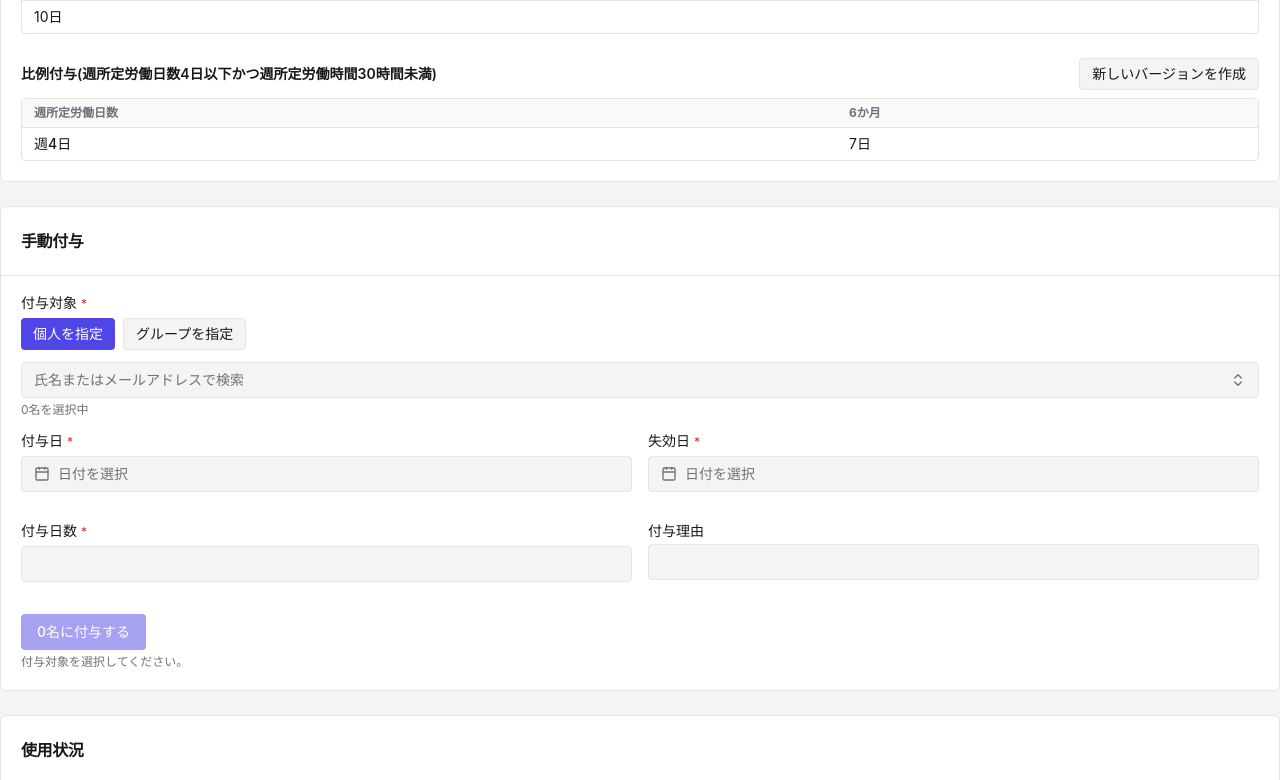
Test: PaidLeavePolicyPage › revoke button of the target user grants › disables revoking both same-day grants but the one the API reports as latest
The width and height of the screenshot is (1280, 780).
(page scrolled)
Click the dropdown with id "grant-target-users" at (139, 380), box [21,362,1259,398]
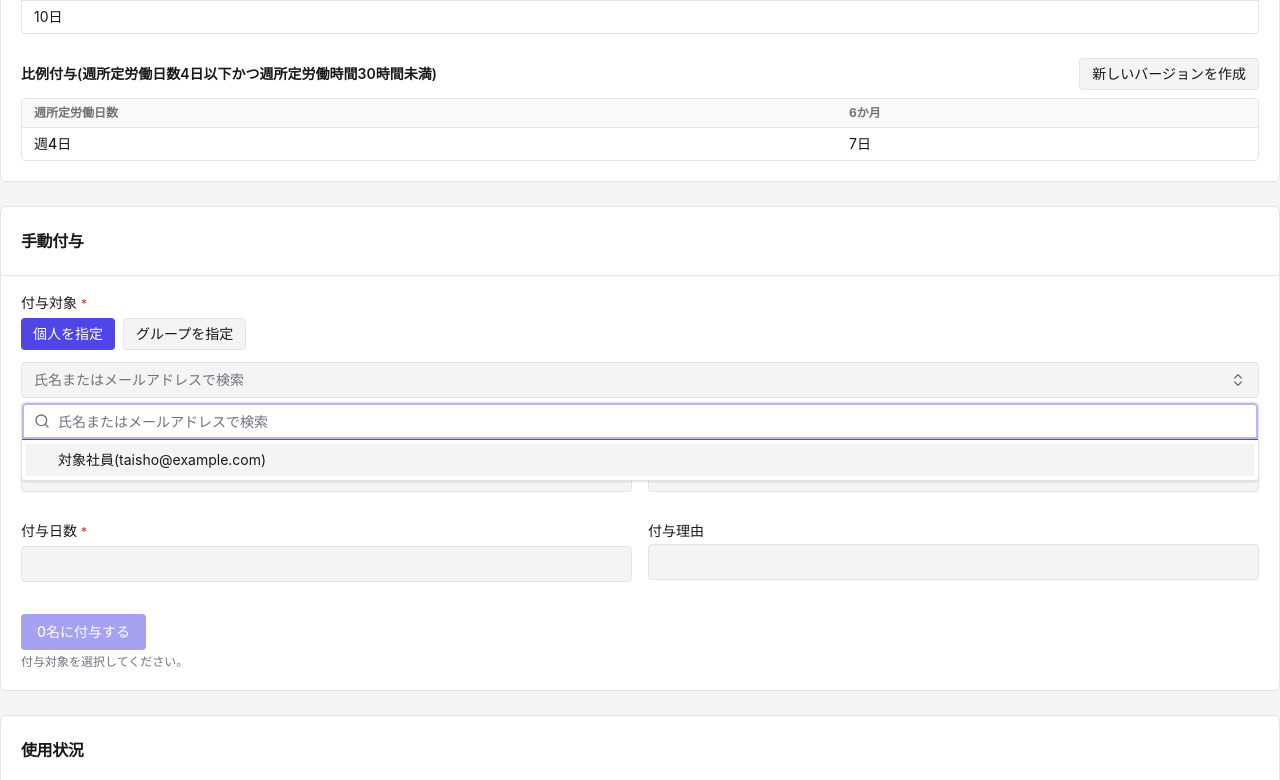
Type "対象" into the 2nd dropdown with placeholder "氏名またはメールアドレスで検索" at (652, 421), box [58,403,1246,439]
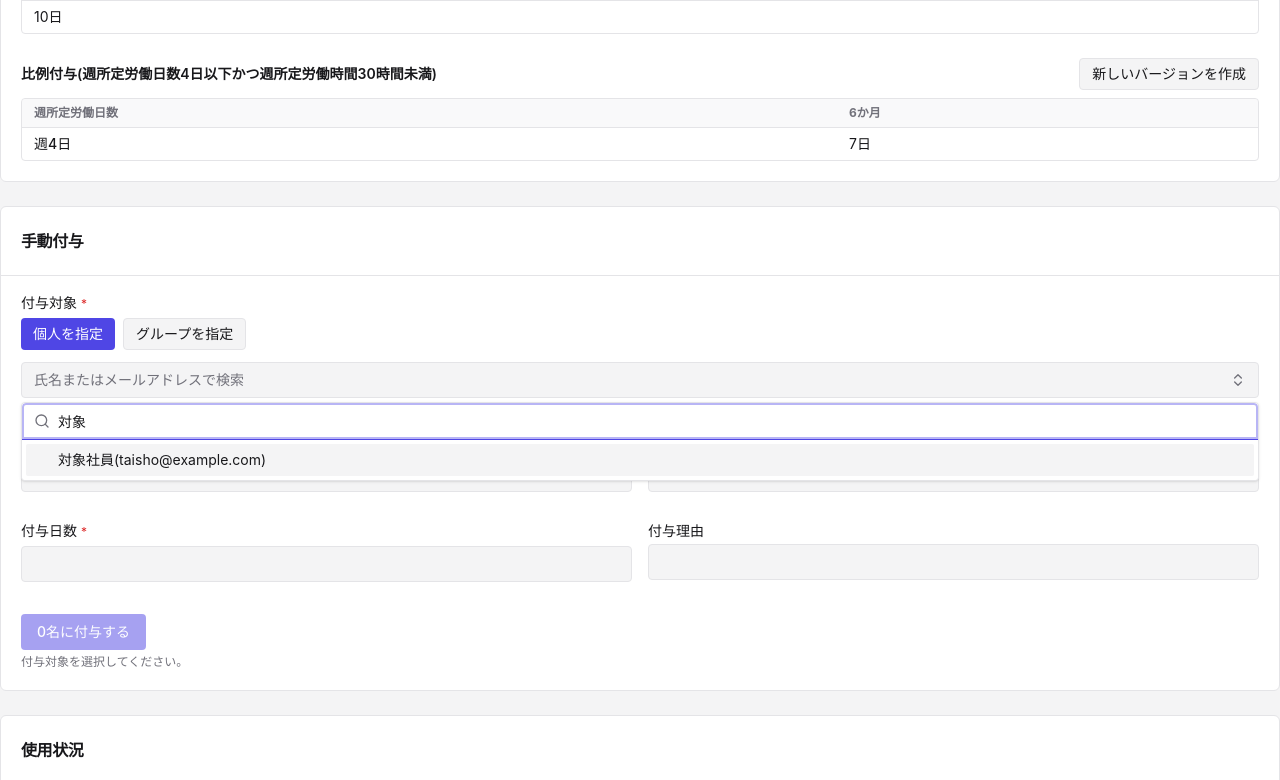
Click the option "対象社員(taisho@example.com)" at (86, 460), box [26,444,1254,476]
(page scrolled)
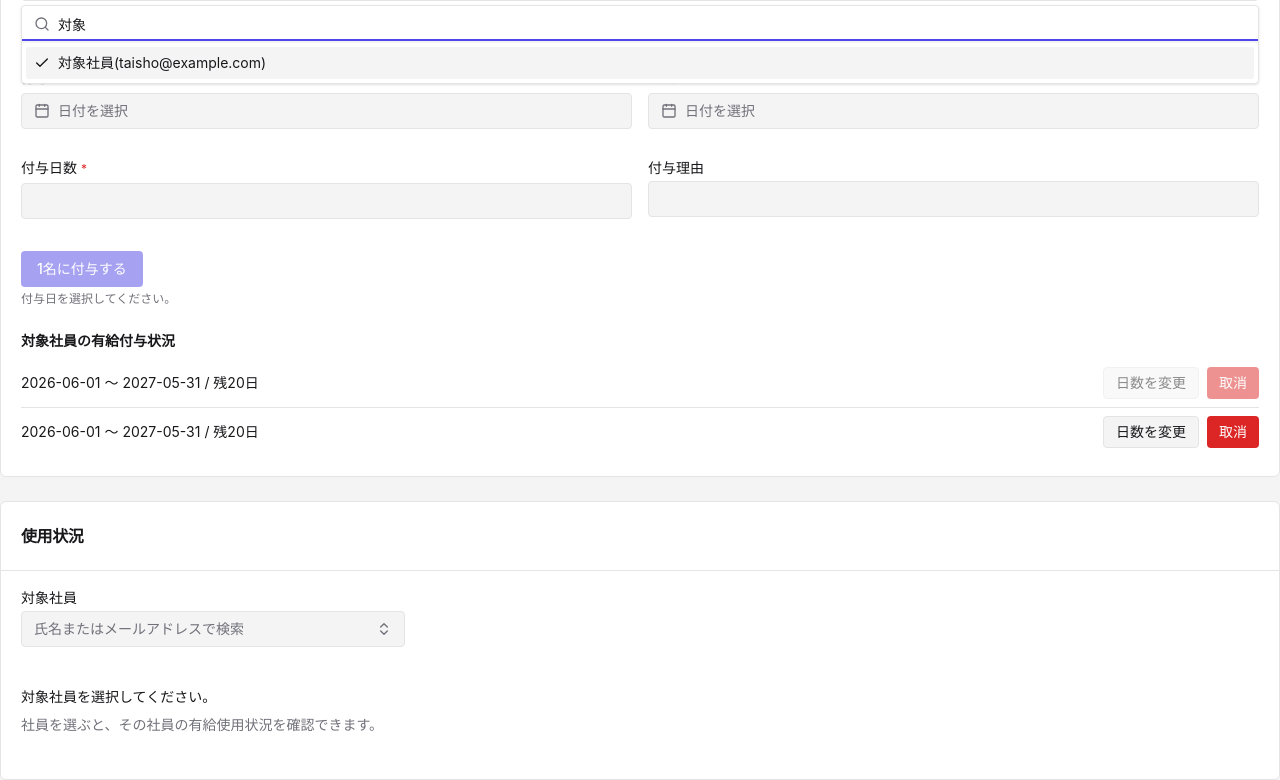
Result: the heading "対象社員の有給付与状況" is shown at [21,332,175,349]
Result: the 1st button "取消" is disabled at [1207,367,1259,399]
Result: the 2nd button "取消" is enabled at [1207,416,1259,448]
